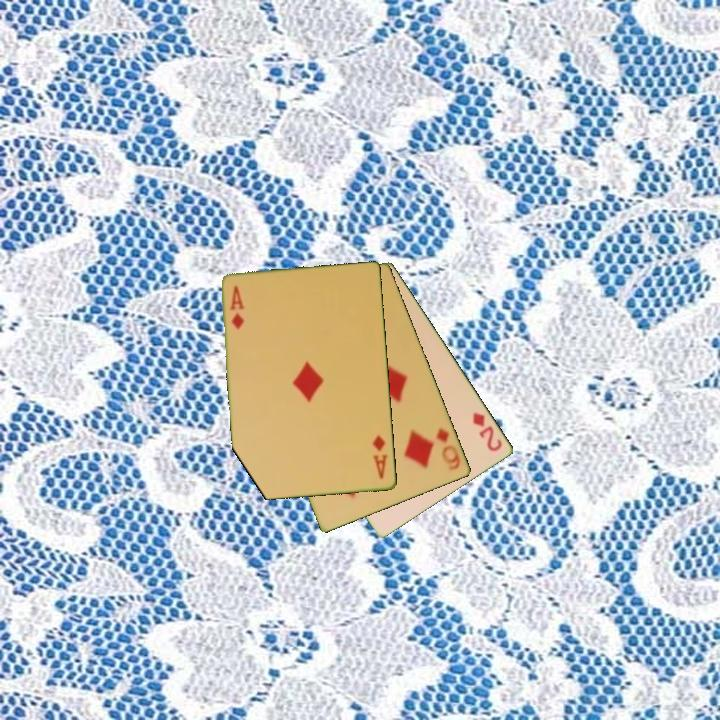2d: (469, 409, 506, 455)
6d: (433, 425, 464, 473)
Ad: (369, 432, 391, 482), (226, 283, 247, 333)
